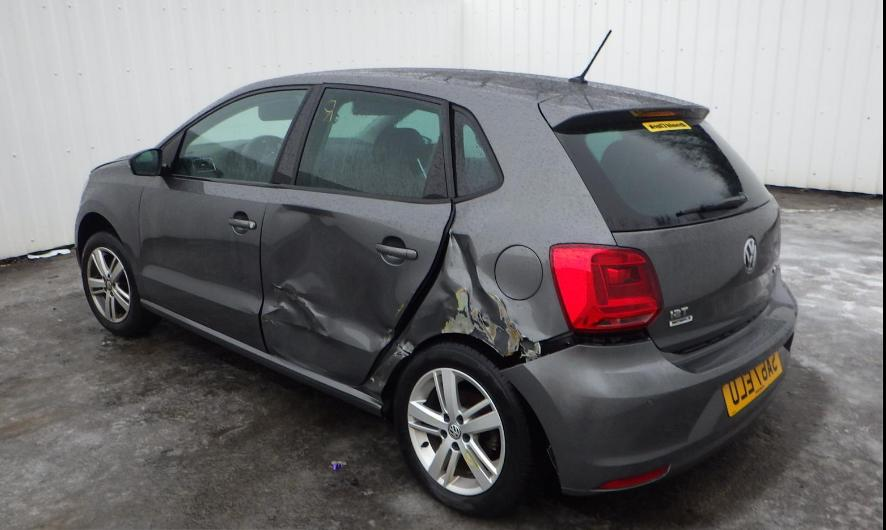Broken part: (341, 98, 463, 396), (499, 290, 776, 379)
Dent: (261, 204, 403, 387), (436, 232, 547, 361), (366, 300, 450, 399), (476, 252, 551, 342), (371, 398, 382, 407)
Paint chip: (487, 292, 523, 356), (442, 289, 474, 334), (471, 309, 504, 345), (297, 298, 314, 316), (273, 284, 296, 296), (380, 328, 393, 348), (393, 302, 406, 317), (263, 316, 274, 324), (370, 378, 376, 383)
